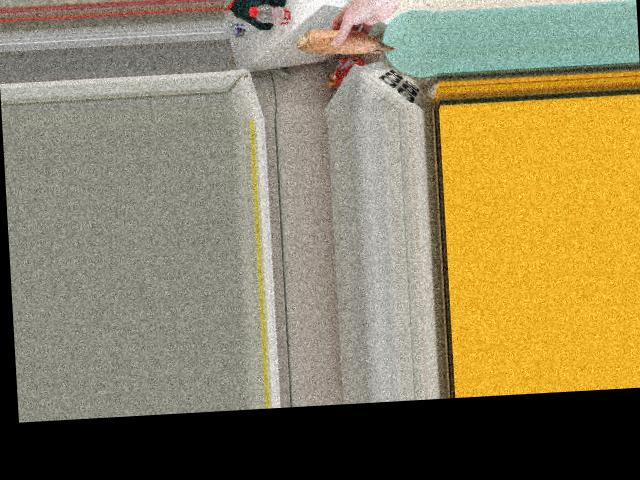sweet_potato: (297, 24, 389, 56)
